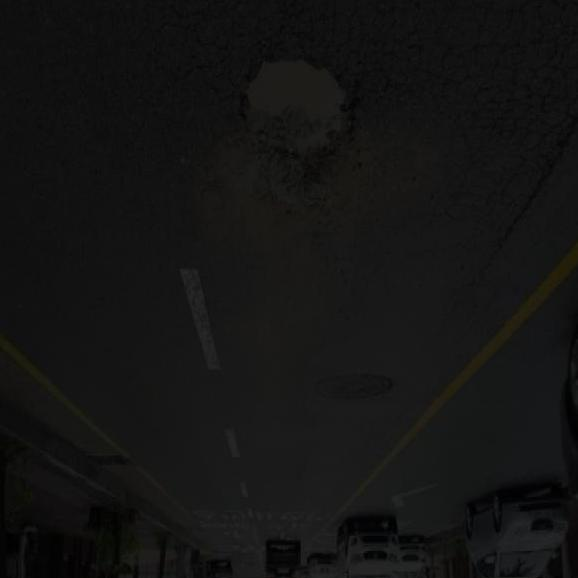pothole: (226, 39, 367, 202)
